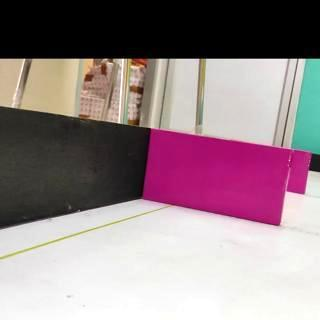xparking: (144, 131, 293, 228), (289, 150, 312, 196)
